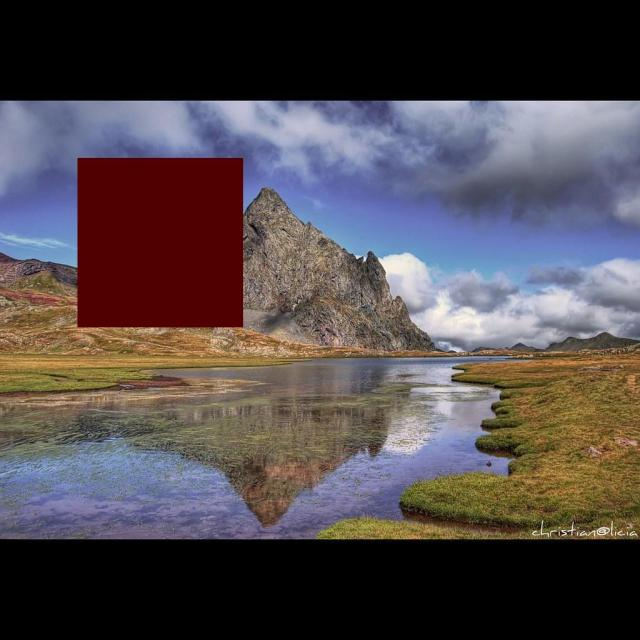RedSquare: (64, 149, 261, 342)
